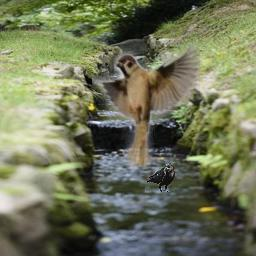Crow: (145, 163, 175, 192)
Sparrow: (92, 43, 200, 167)
